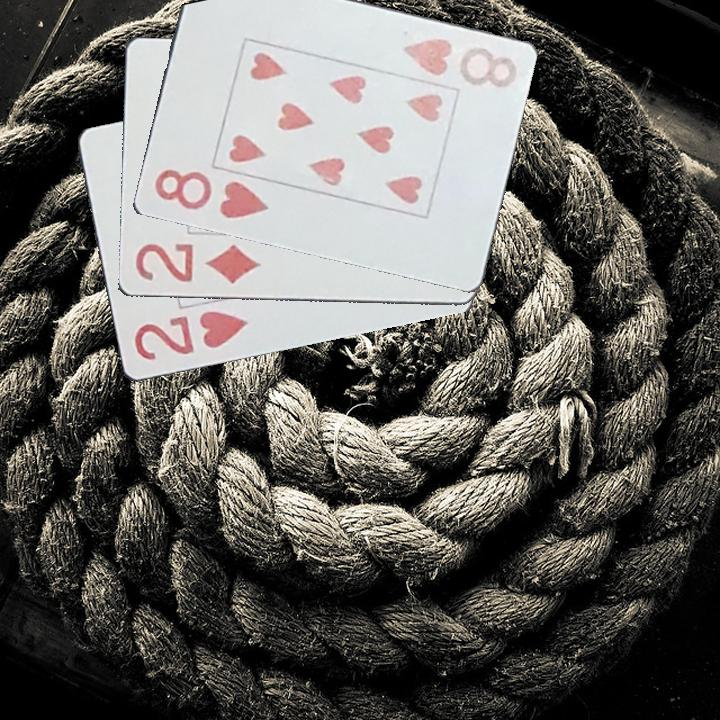2d: (131, 240, 263, 287)
2h: (130, 308, 251, 364)
8h: (399, 35, 520, 92), (150, 166, 271, 222)
